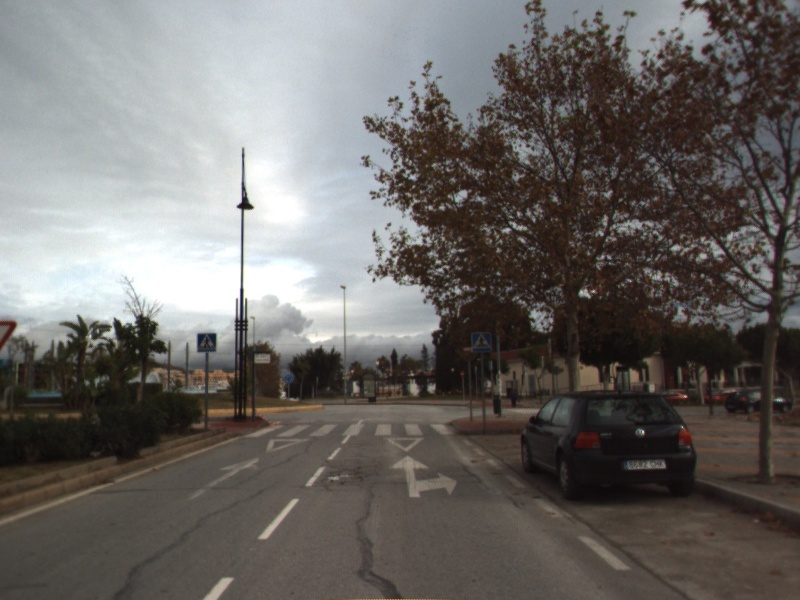STRAIGHT: (185, 454, 261, 502)
STRAIGHT_RIGHT: (387, 454, 459, 499)
